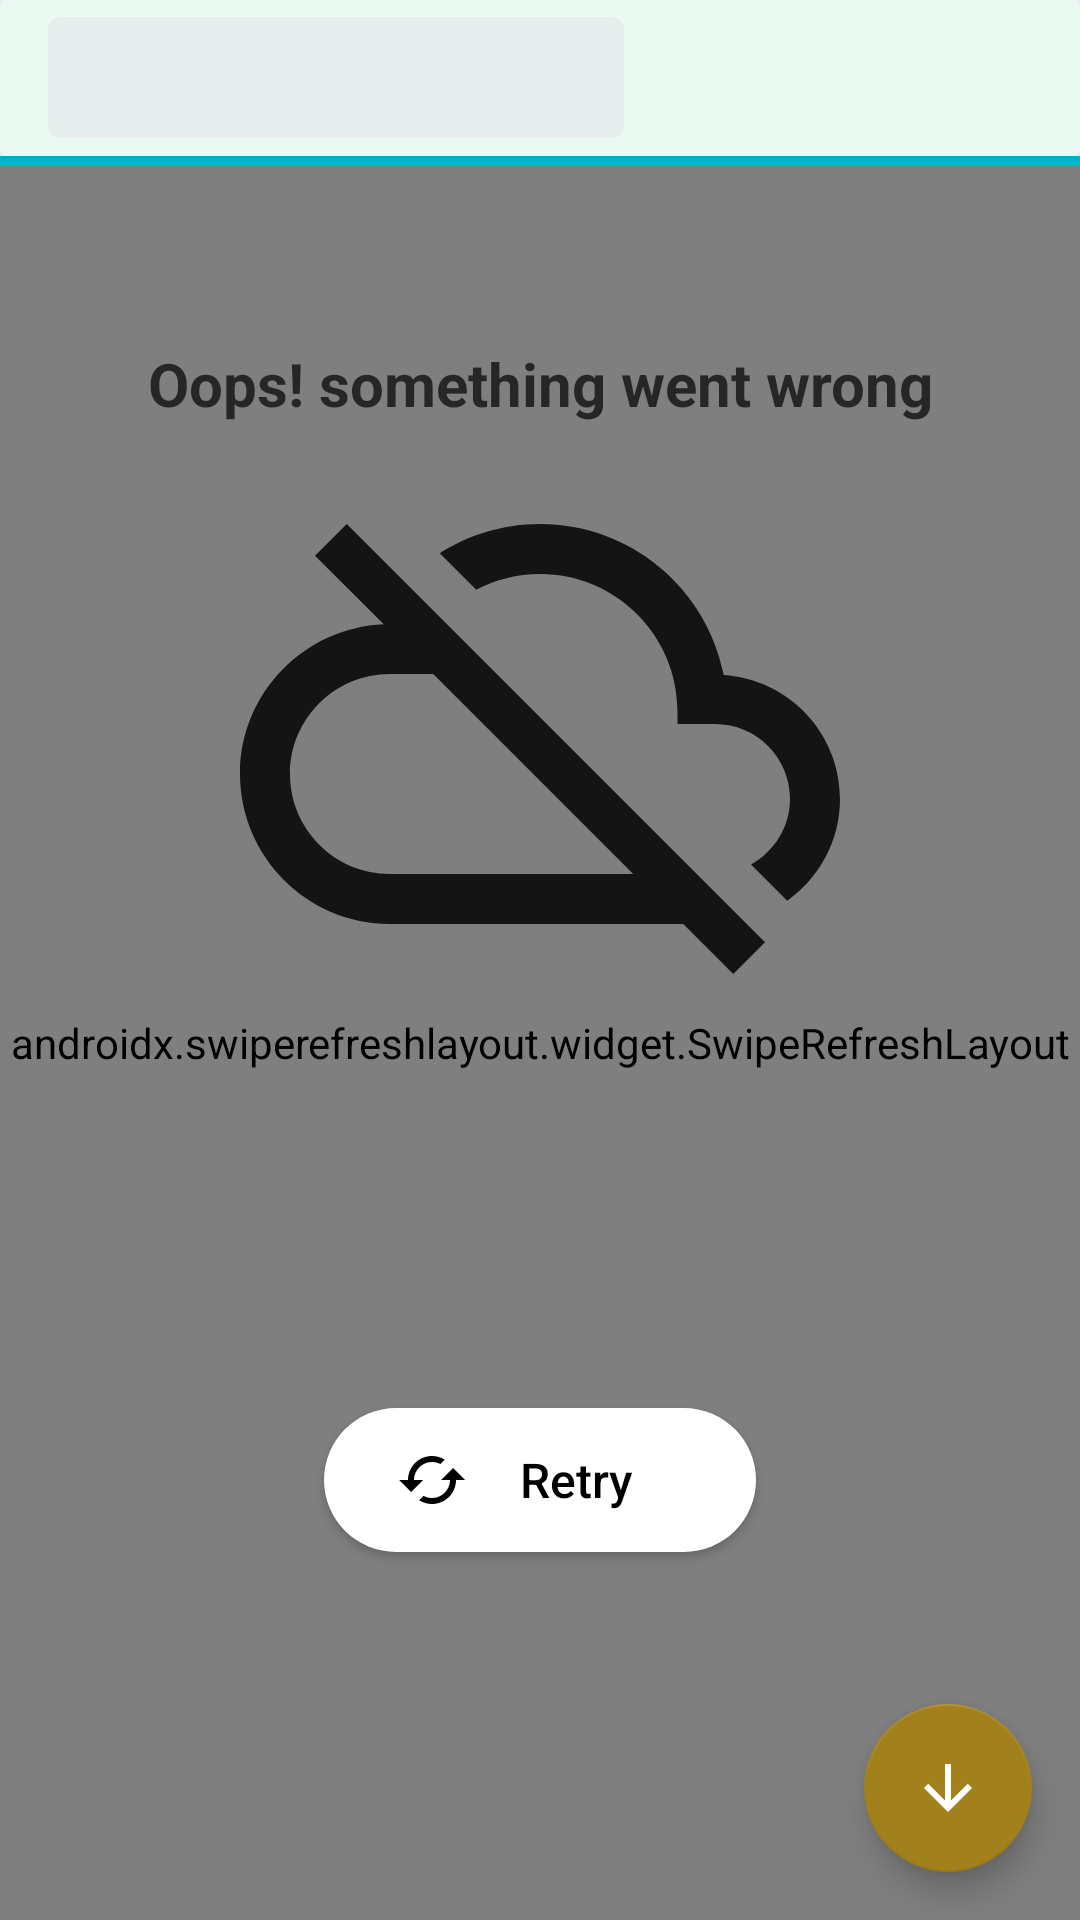

Icons on this 1080 × 1920 Android screen, each with its box as (x1, y1, x2, y2):
arrow downward: (864, 1704, 1032, 1872)
